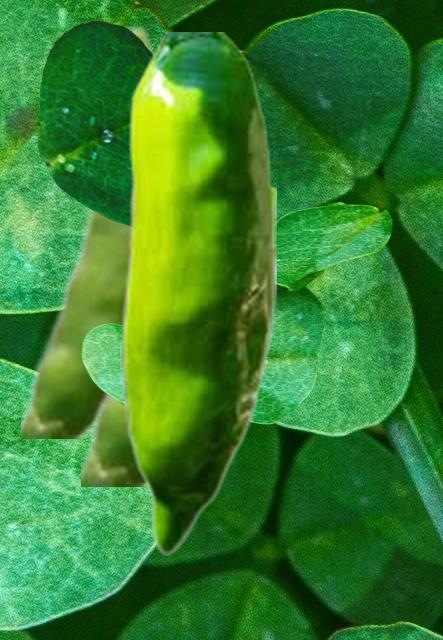green_chili: (120, 32, 275, 554), (21, 23, 155, 437), (81, 387, 144, 485)
